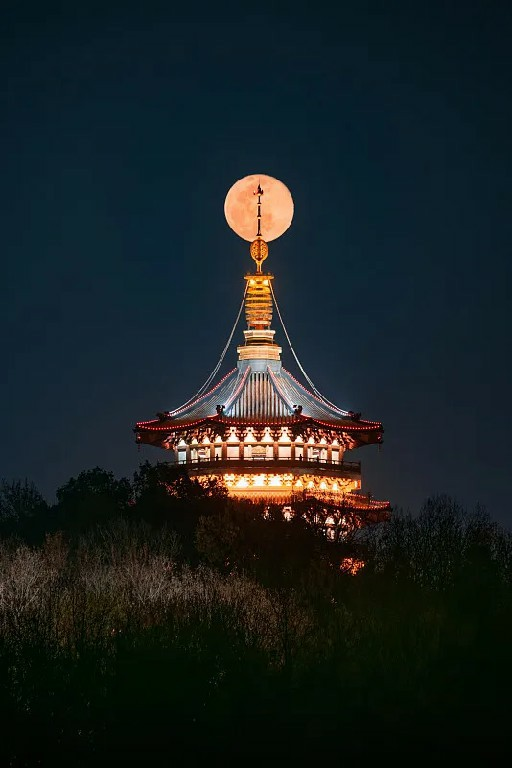Leifeng: (132, 181, 393, 560)
